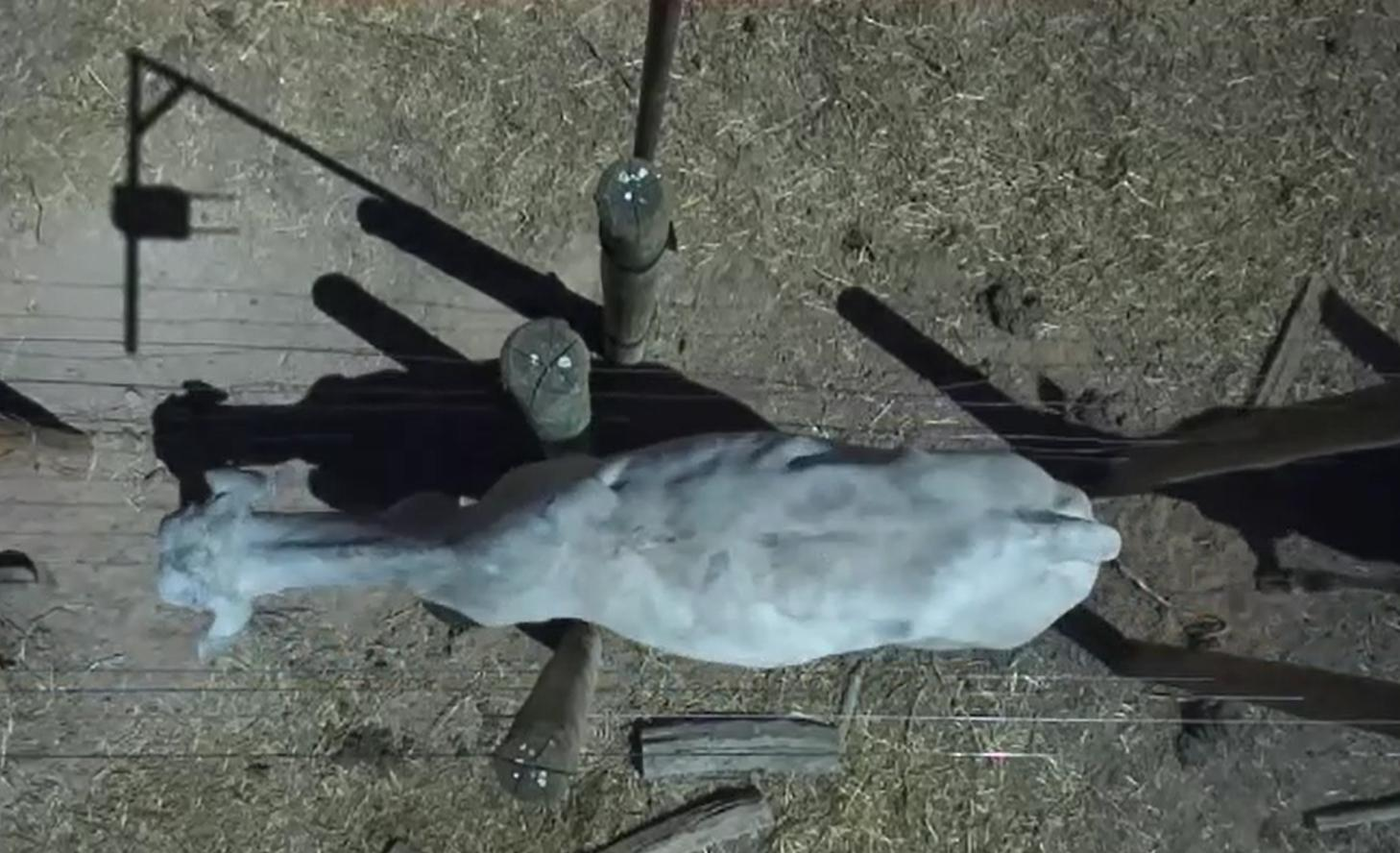cattle: (148, 417, 1135, 675)
